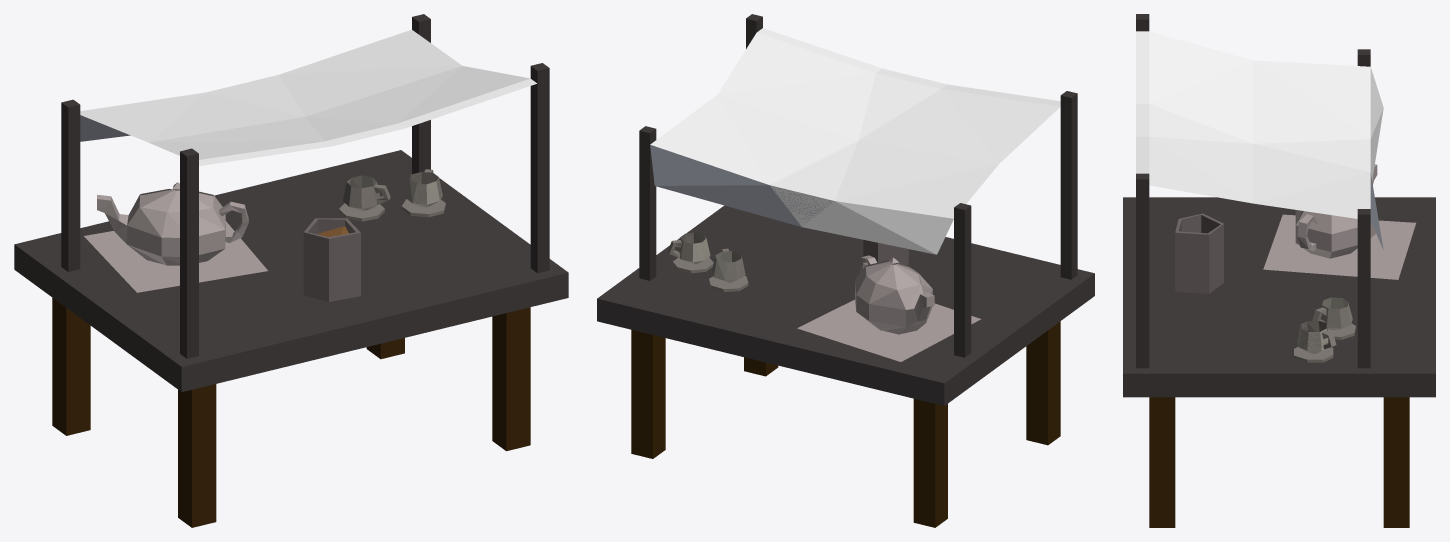
The model's file is obj_tea_stall_0.obj.
3 renders of one model, left to right at view 1: azimuth 30°, elevation 25°; view 2: azimuth 150°, elevation 25°; view 3: azimuth 270°, elevation 25°, orthographic. The views are drawn at different scales.
Size of the model in its own units: 2 by 1.88 by 1.5.
